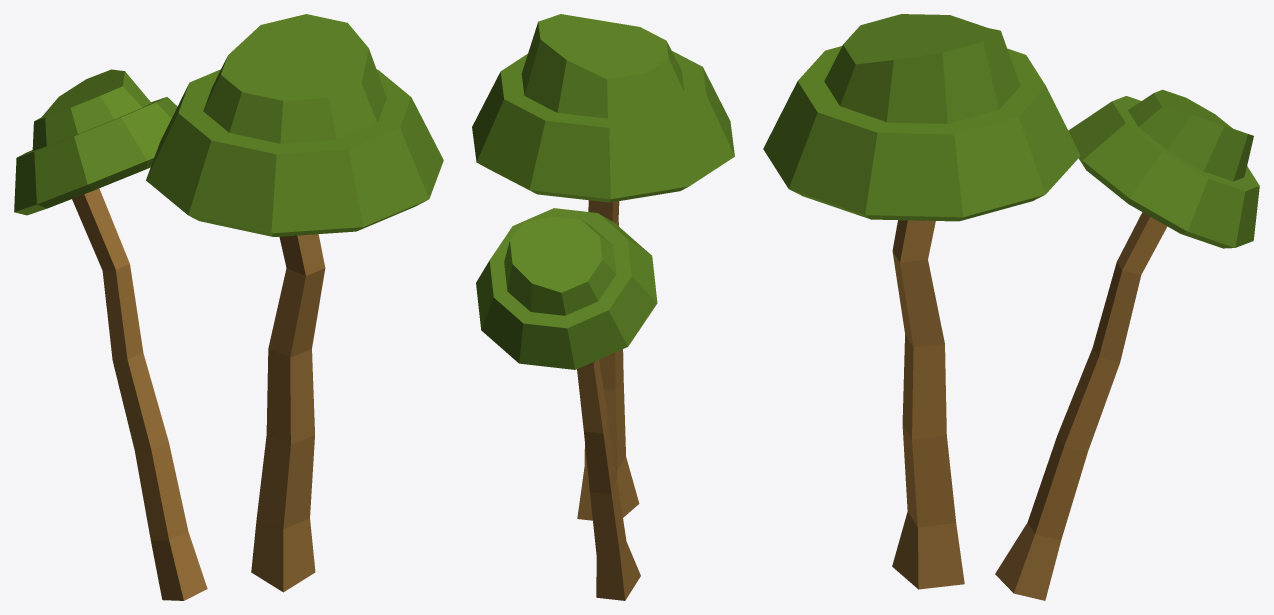
Rendered from tree set .fbx.
3 renders of one model, left to right at view 1: azimuth 30°, elevation 25°; view 2: azimuth 150°, elevation 25°; view 3: azimuth 270°, elevation 25°, orthographic. The views are drawn at different scales.
Visible parts, largest first — view 1: Cube.056; view 2: Cube.056; view 3: Cube.056.
Part boxes in pixels (x1,y1,x2,y2): Cube.056: [14, 14, 443, 600]; Cube.056: [472, 14, 734, 600]; Cube.056: [763, 14, 1259, 600].
Bounding box in the file's own units: 69.96 × 135 × 100.
